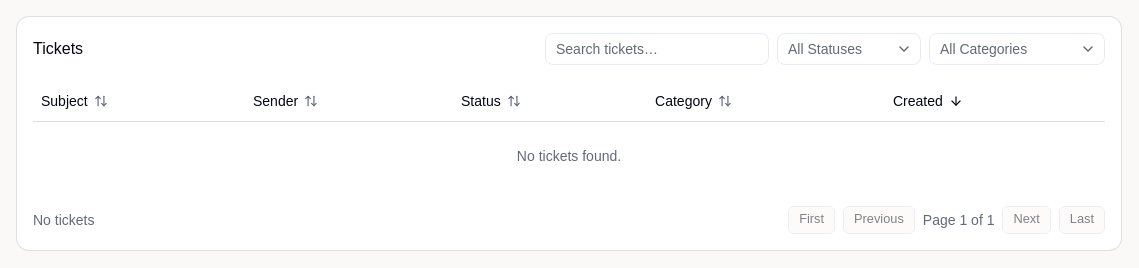
TicketsPage › shows Clear button when search input has text and clears it
The width and height of the screenshot is (1139, 268).
Expected: the text "No tickets found." is shown, x1=33 y1=121 x2=1105 y2=190
Type "alice" into the field labelled "Search tickets…" at (657, 49), box x1=545 y1=33 x2=769 y2=65
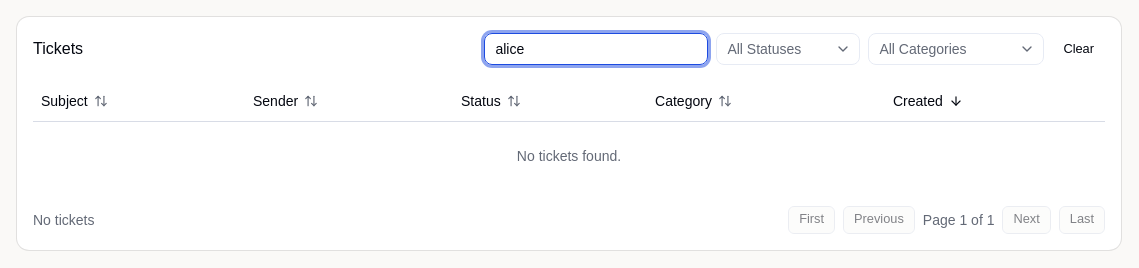
Expected: the button "Clear" is shown
Click the button "Clear" at (1079, 49), box x1=1052 y1=35 x2=1105 y2=63
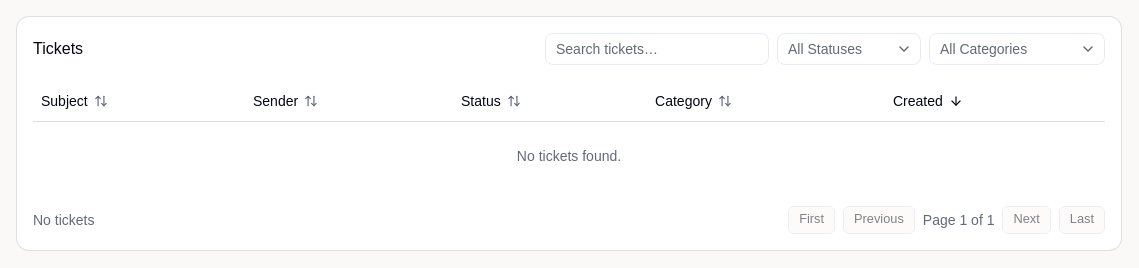
Expected: the field labelled "Search tickets…" is empty, x1=545 y1=33 x2=769 y2=65
Expected: the button "Clear" is gone
